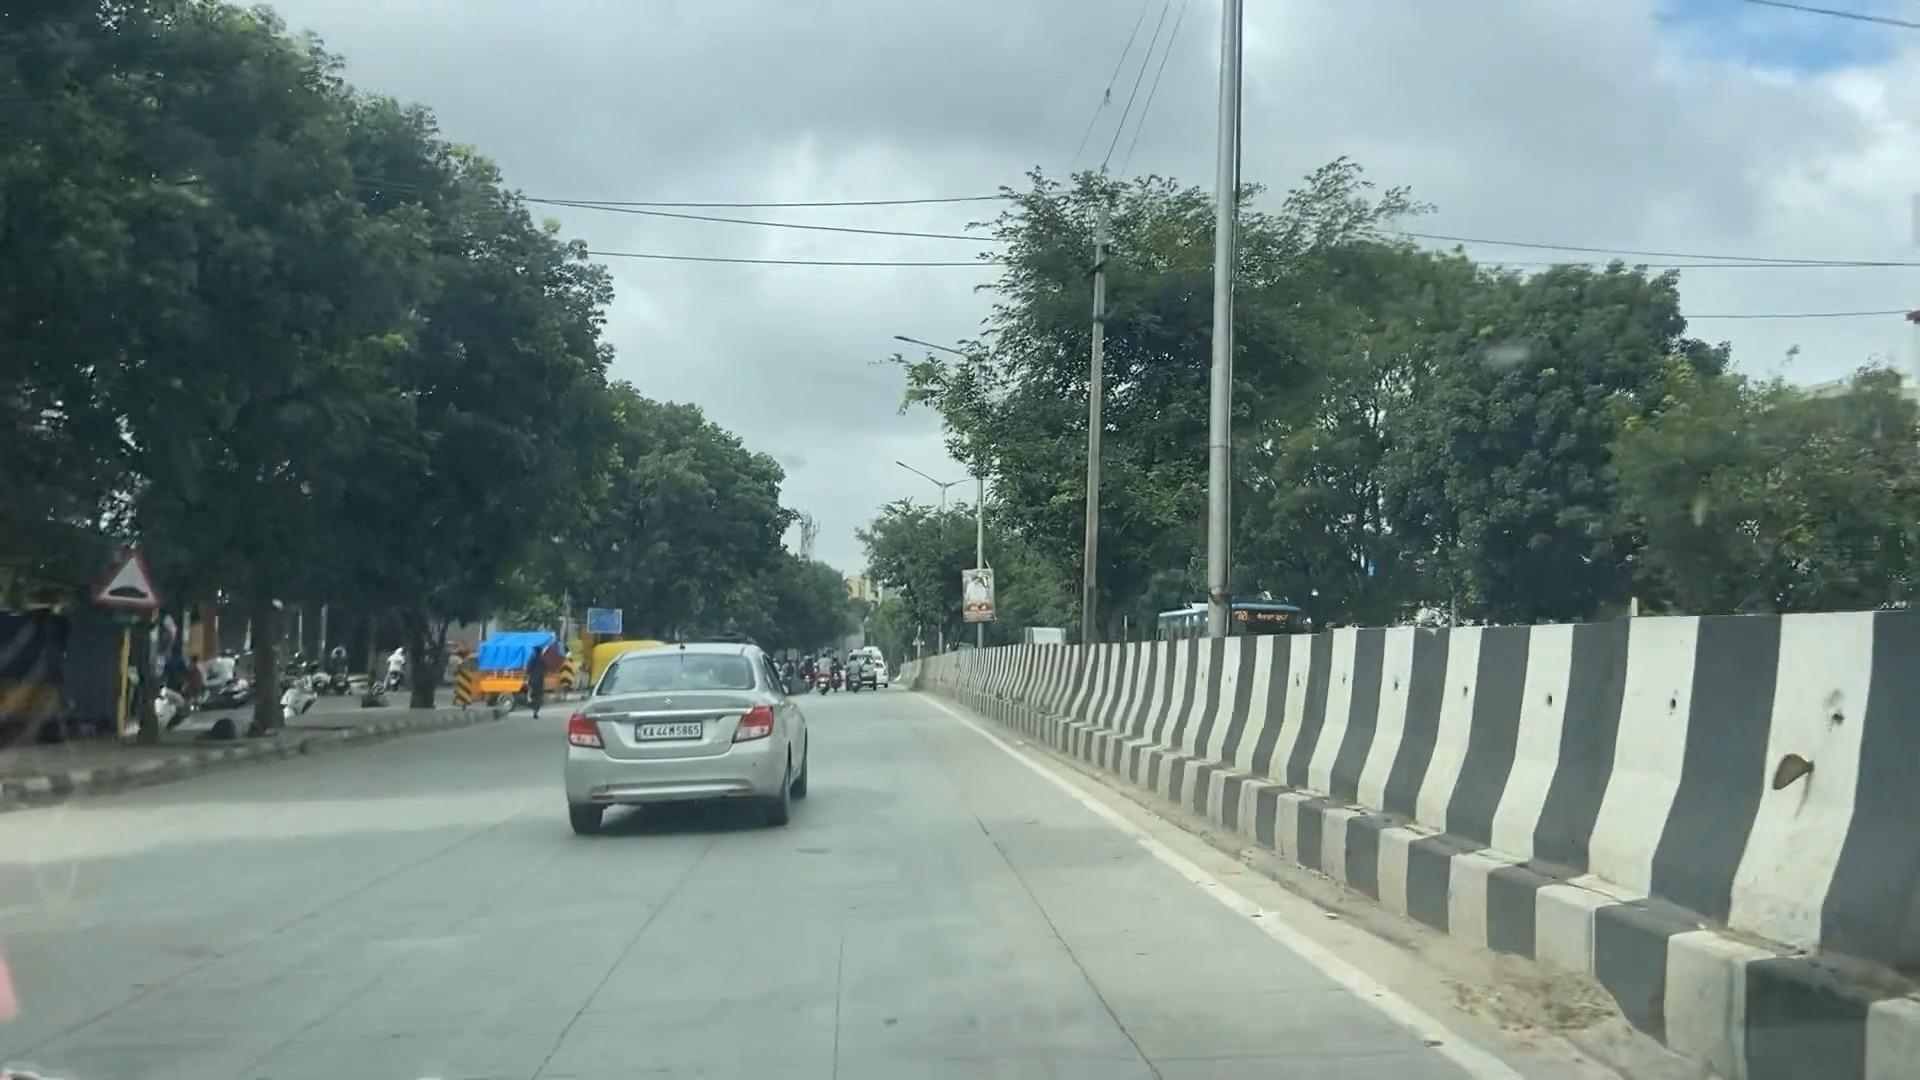LMV: (550, 618, 823, 824)
